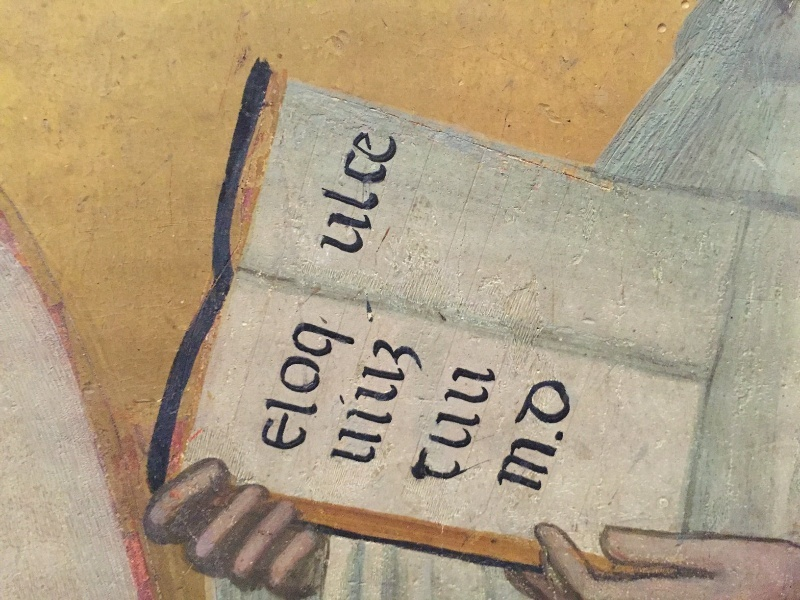text: (305, 317, 320, 464), (321, 317, 336, 464), (337, 317, 352, 464), (385, 127, 401, 259), (385, 336, 400, 473), (401, 336, 416, 473), (353, 127, 368, 259), (369, 127, 384, 259), (465, 363, 480, 492), (481, 363, 496, 492), (529, 376, 544, 501), (545, 376, 560, 501), (561, 376, 576, 501), (374, 336, 384, 473), (417, 336, 427, 473), (353, 317, 362, 464), (297, 317, 304, 464), (457, 363, 464, 492), (497, 363, 500, 492), (577, 376, 580, 501)
